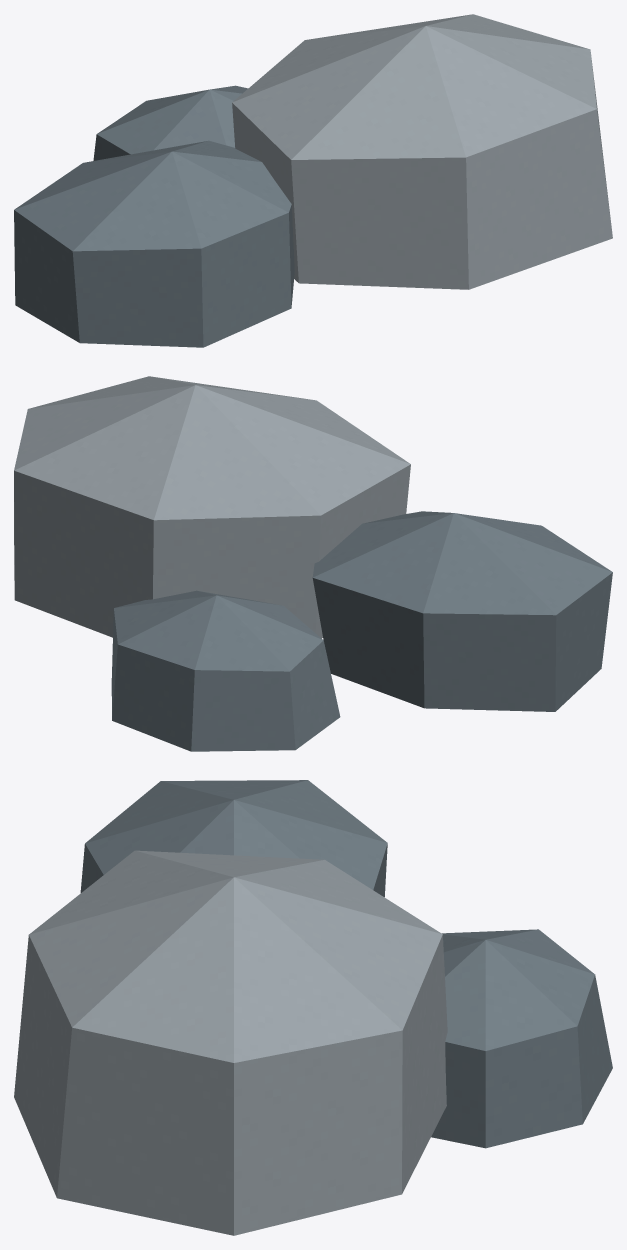
File: low-poly-nature-rock-cluster (2).glb
The picture shows the model from 3 angles, top to bottom: view 1: azimuth 30°, elevation 25°; view 2: azimuth 150°, elevation 25°; view 3: azimuth 270°, elevation 25°; orthographic projection. The views are drawn at different scales.
Visible parts, largest first — view 1: Cluster stone 002, Cluster stone 001, Cluster stone 003; view 2: Cluster stone 002, Cluster stone 001, Cluster stone 003; view 3: Cluster stone 002, Cluster stone 003, Cluster stone 001.
Boxes of the visible parts, left/top/right/bottom form: Cluster stone 002: left=232, top=14, right=612, bottom=289; Cluster stone 001: left=14, top=140, right=294, bottom=347; Cluster stone 003: left=93, top=85, right=247, bottom=160; Cluster stone 002: left=14, top=376, right=410, bottom=638; Cluster stone 001: left=312, top=511, right=612, bottom=711; Cluster stone 003: left=111, top=590, right=340, bottom=751; Cluster stone 002: left=14, top=850, right=447, bottom=1235; Cluster stone 003: left=431, top=929, right=612, bottom=1148; Cluster stone 001: left=80, top=780, right=387, bottom=897.
Size of the model in its own units: 1.66 by 0.72 by 1.19.
2 materials, 2 textured.
